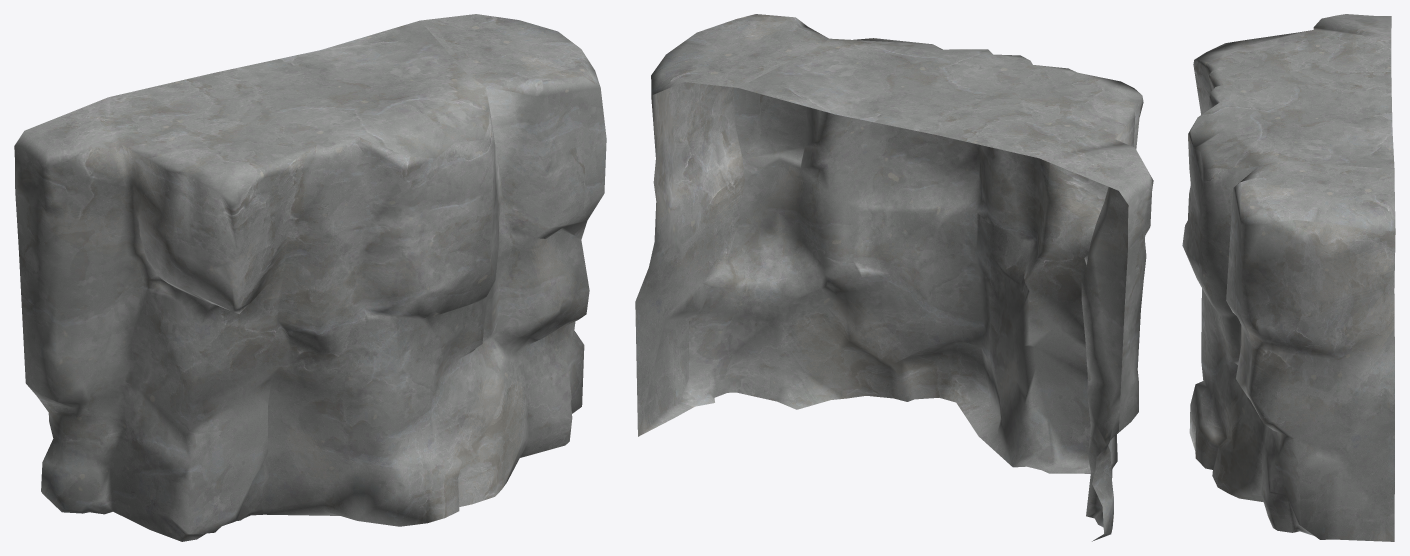
The model's file is SM_Com_Roc_67AS.fbx.
3 views of the same model, side by side, from view 1: azimuth 30°, elevation 25°; view 2: azimuth 150°, elevation 25°; view 3: azimuth 270°, elevation 25° (orthographic). The views are drawn at different scales.
Parts seen in each view (by area): view 1: SM_Com_Roc_67AS.mo; view 2: SM_Com_Roc_67AS.mo; view 3: SM_Com_Roc_67AS.mo.
Boxes of the visible parts, left/top/right/bottom form: SM_Com_Roc_67AS.mo: left=14, top=14, right=606, bottom=541; SM_Com_Roc_67AS.mo: left=635, top=14, right=1153, bottom=541; SM_Com_Roc_67AS.mo: left=1182, top=14, right=1395, bottom=541.
Size of the model in its own units: 23.94 by 17.17 by 9.97.
